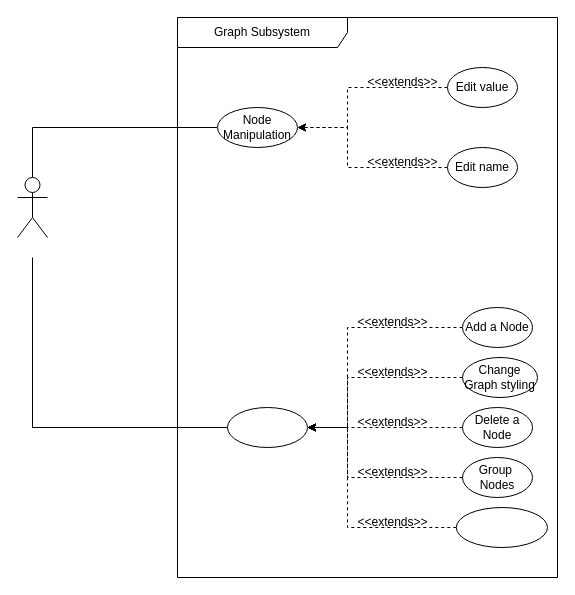
Some shapes in this 575 by 595 pixel diagram are drawn without their labels. Here are the shapes that lost their labels. From the top down, the centre of each, then its label:
At point 32,207: "User".
At point 267,427: "Graph Manipulation".
At point 501,527: "Change graph Structure".
